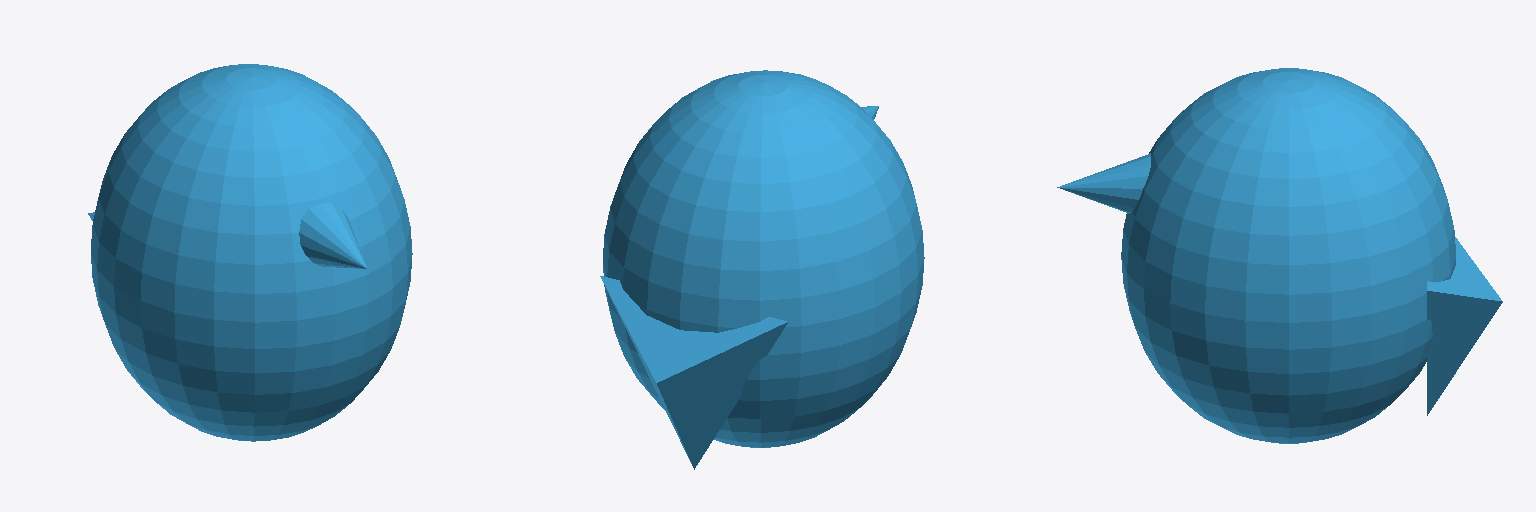
The model's file is gem_type_6.obj.
The picture shows the model from 3 angles: view 1: azimuth 30°, elevation 25°; view 2: azimuth 150°, elevation 25°; view 3: azimuth 270°, elevation 25°; orthographic projection.
Parts seen in each view (by area): view 1: gem_type_6; view 2: gem_type_6; view 3: gem_type_6.
Boxes of the visible parts, x1=… form: gem_type_6: x1=88, y1=64, x2=412, y2=441; gem_type_6: x1=600, y1=70, x2=924, y2=469; gem_type_6: x1=1057, y1=68, x2=1502, y2=443.
Size of the model in its own units: 0.63 by 0.77 by 0.885.